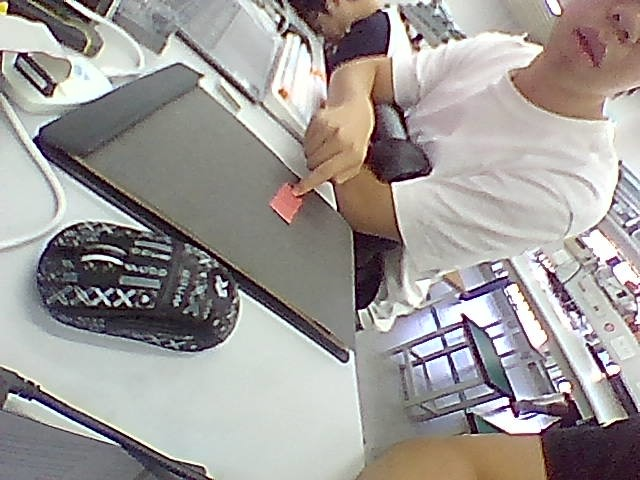card: (270, 183, 302, 223)
